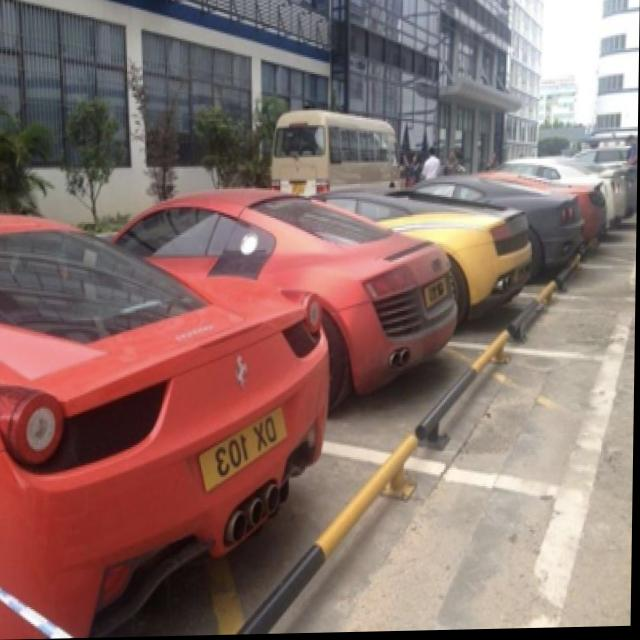licence: (202, 406, 286, 485)
